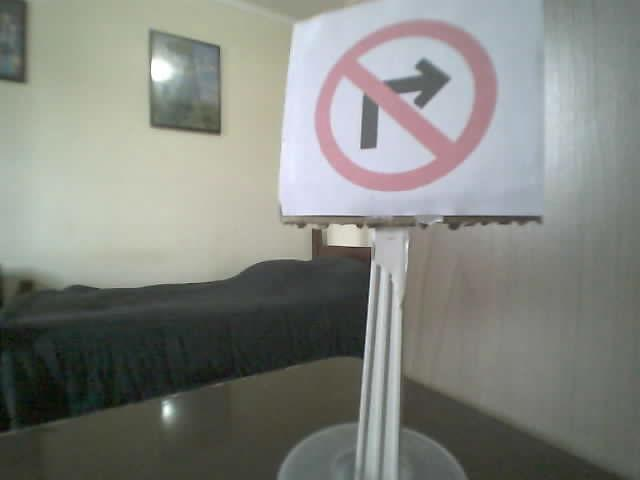R-4b_proibido-direita: (314, 19, 496, 190)
